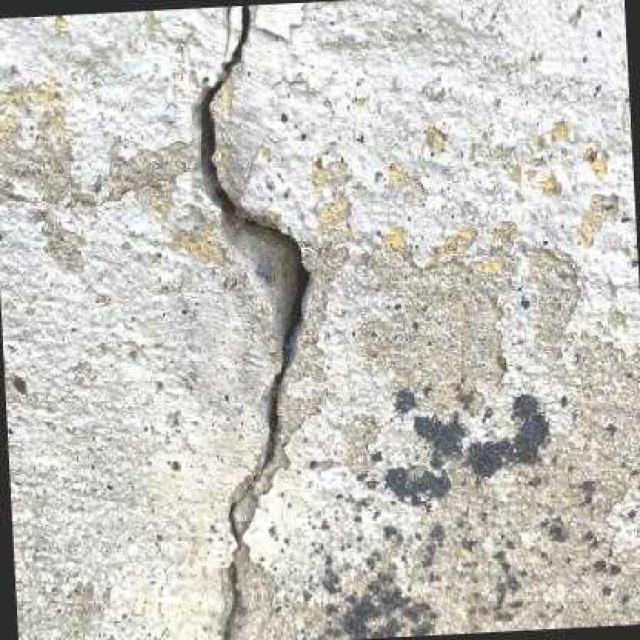D00: (196, 3, 310, 640)
